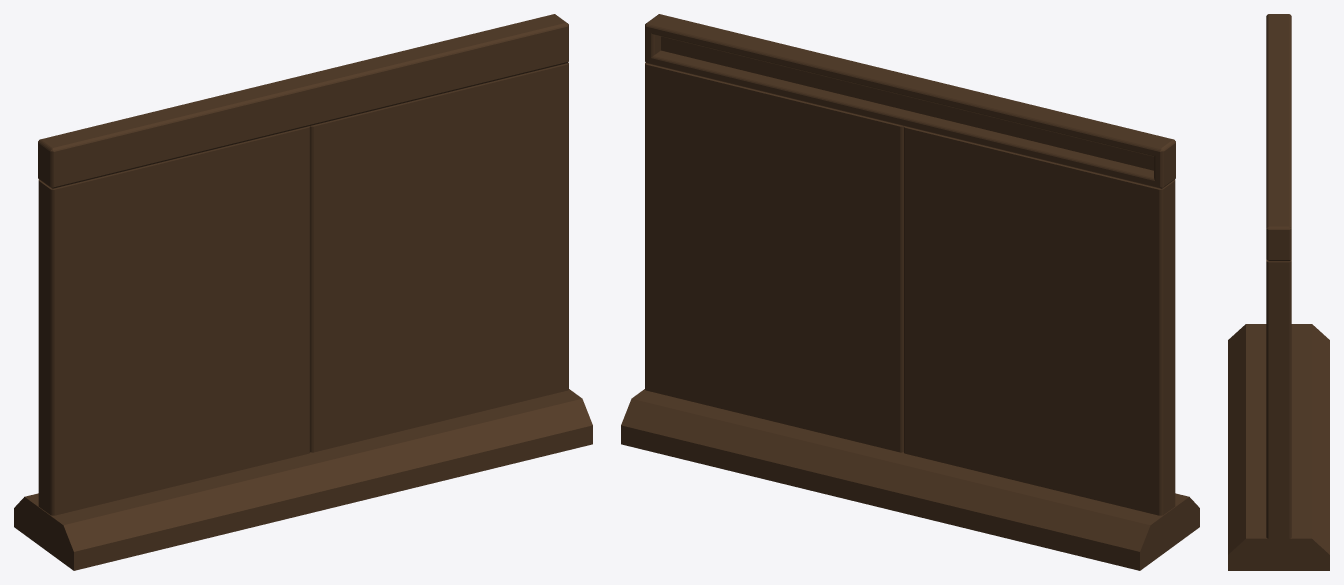
Rendered from wall_wood.fbx.
3 views of the same model, side by side, from view 1: azimuth 30°, elevation 25°; view 2: azimuth 150°, elevation 25°; view 3: azimuth 270°, elevation 25° (orthographic). The views are drawn at different scales.
Parts seen in each view (by area): view 1: UModeler_Object__1_, UModeler_Object_1, UModeler_Object, UModeler_Object_2; view 2: UModeler_Object__1_, UModeler_Object_1, UModeler_Object, UModeler_Object_2; view 3: UModeler_Object, UModeler_Object_1, UModeler_Object_2.
Part boxes in pixels (x1,y1,x2,y2): UModeler_Object__1_: [38, 126, 309, 515]; UModeler_Object_1: [310, 62, 568, 452]; UModeler_Object: [14, 389, 592, 570]; UModeler_Object_2: [38, 14, 568, 188]; UModeler_Object__1_: [904, 126, 1175, 515]; UModeler_Object_1: [645, 62, 903, 452]; UModeler_Object: [621, 389, 1199, 570]; UModeler_Object_2: [645, 14, 1175, 188]; UModeler_Object: [1228, 324, 1329, 570]; UModeler_Object_1: [1266, 259, 1291, 538]; UModeler_Object_2: [1266, 14, 1291, 261].
Bounding box in the file's own units: 400 × 298 × 80.
